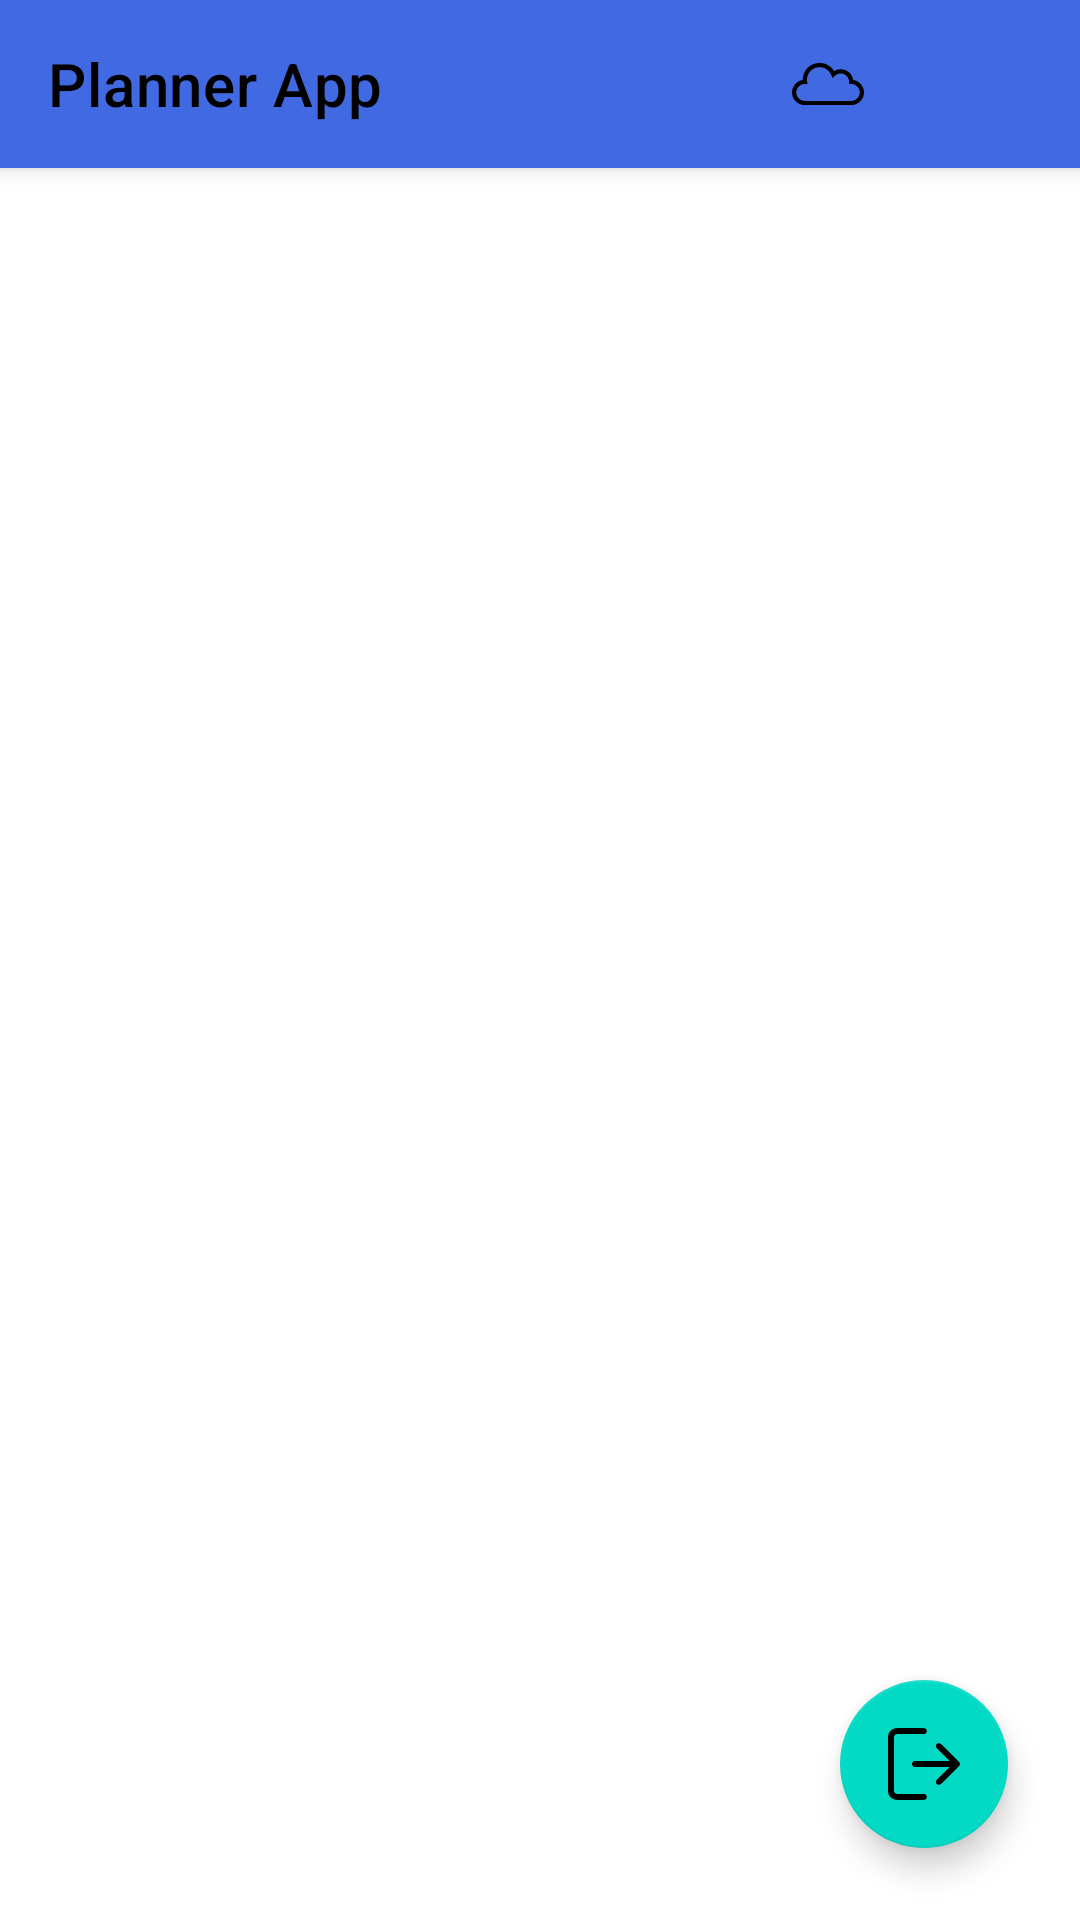

Where icons sit on this 1080×1920 app screen, as {"left": x1, "top": y1, "right": x2, "bottom": y2}:
cloud: {"left": 792, "top": 63, "right": 864, "bottom": 105}
